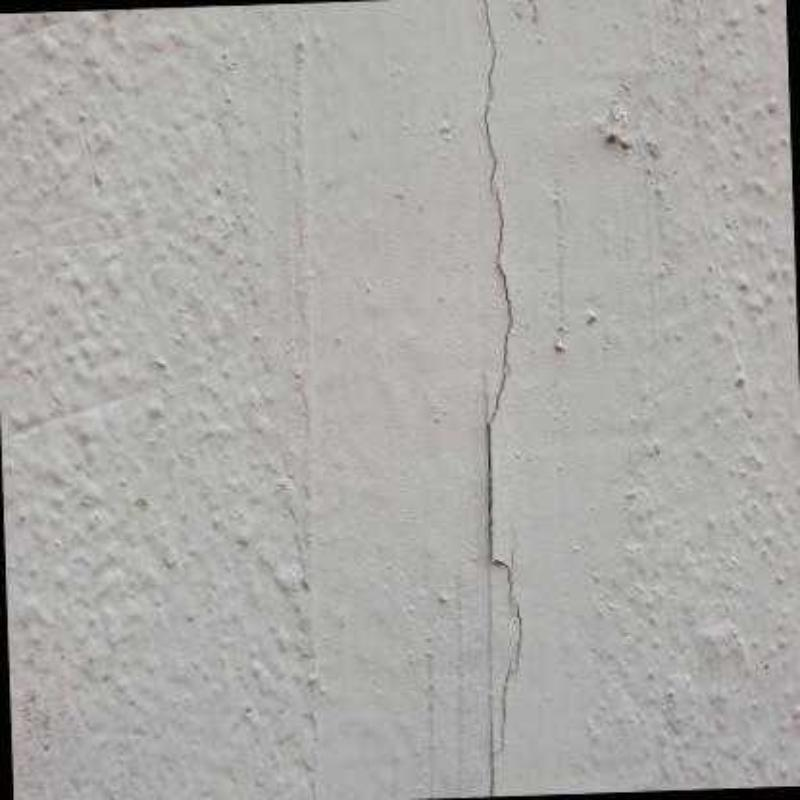pothole: (478, 0, 529, 797)
